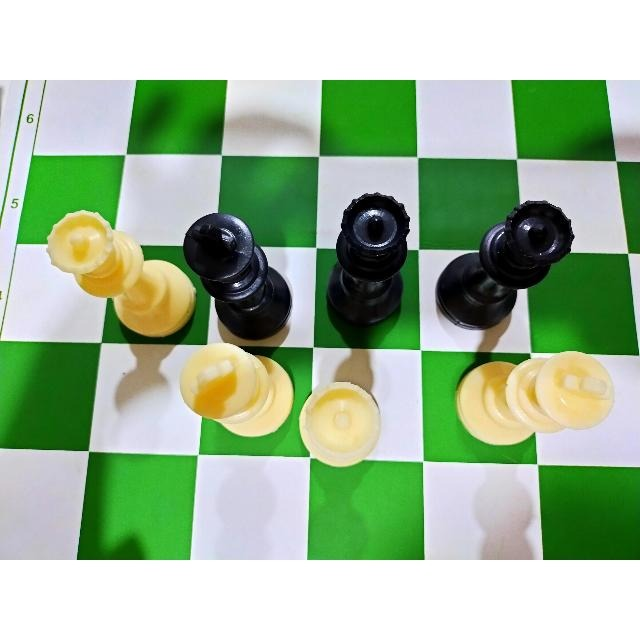black-king: (182, 207, 294, 341)
black-queen: (431, 195, 579, 333), (324, 190, 413, 338)
white-king: (453, 349, 617, 449), (177, 337, 294, 438)
white-queen: (41, 209, 197, 341), (297, 372, 385, 471)
